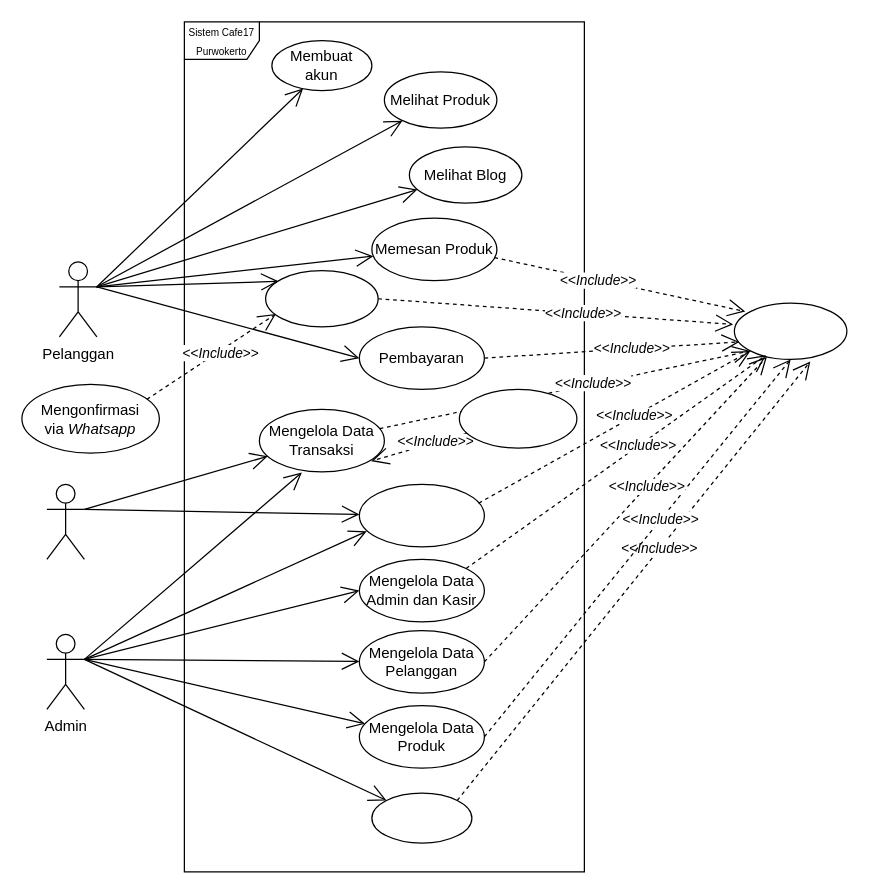
Some shapes in this 869 by 894 pixel diagram are drawn without their labels. The centre of each missing label's shape, as x and y in pixels:
Kasir: point 65,521
Login: point 790,330
Melihat Laporan: point 421,515
Mencetak Bukti Transaksi: point 517,418
Mengelola Data Blog: point 421,817
Mengelola Keranjang: point 321,298
